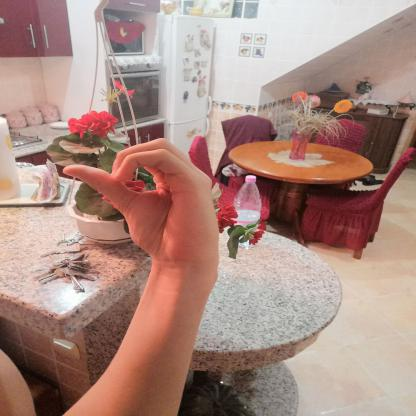WAW: (46, 127, 233, 278)
